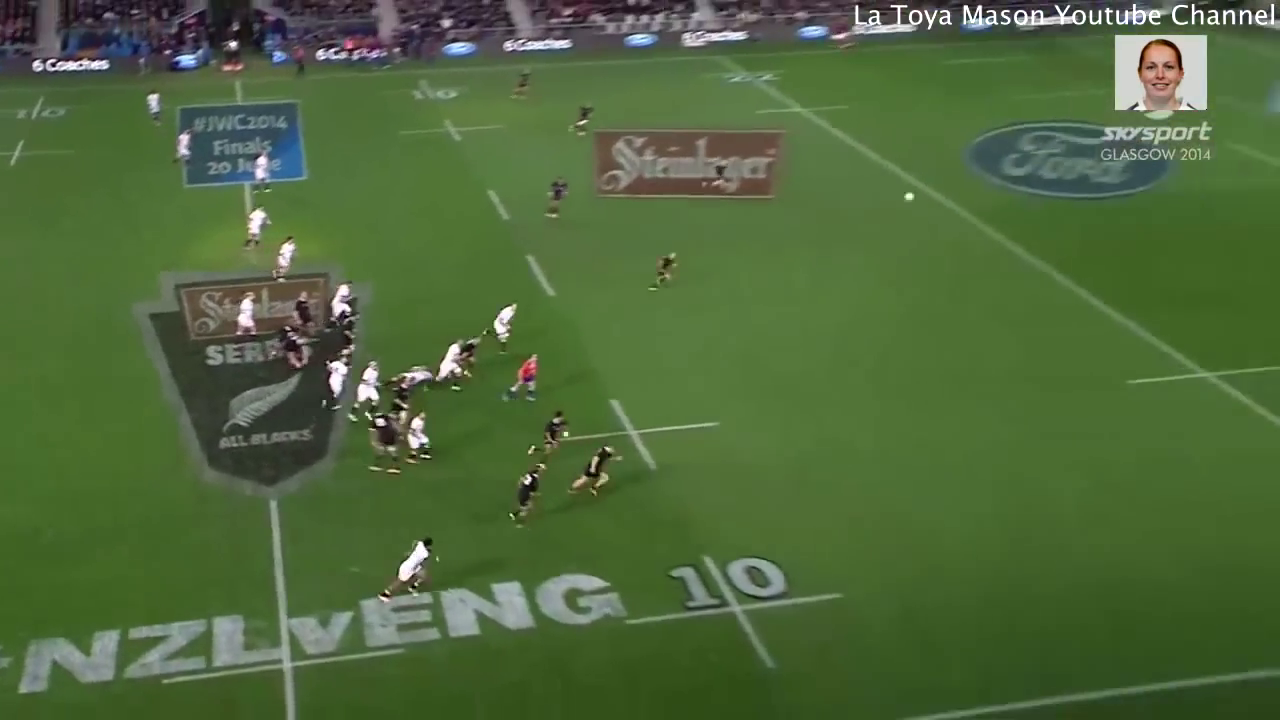10_metre: (610, 548, 853, 672), (542, 388, 735, 476), (394, 112, 510, 150), (375, 76, 483, 104), (1, 97, 95, 126), (1, 135, 81, 169)
ball: (903, 190, 919, 202)
player: (377, 527, 442, 605), (563, 432, 618, 508), (473, 289, 532, 356), (358, 403, 409, 473), (399, 405, 445, 481), (496, 458, 550, 520), (524, 400, 572, 469), (344, 353, 385, 429), (262, 319, 321, 369), (496, 348, 547, 405), (310, 349, 352, 417), (428, 328, 466, 397), (639, 244, 685, 294), (237, 198, 277, 254), (374, 357, 438, 391), (233, 286, 264, 353), (540, 172, 573, 232), (382, 377, 414, 438), (697, 148, 740, 192), (291, 288, 325, 342), (560, 92, 597, 141), (270, 230, 302, 286), (248, 147, 279, 201), (326, 277, 355, 330), (168, 122, 199, 170), (139, 84, 169, 128), (504, 62, 534, 105), (337, 307, 362, 352)
